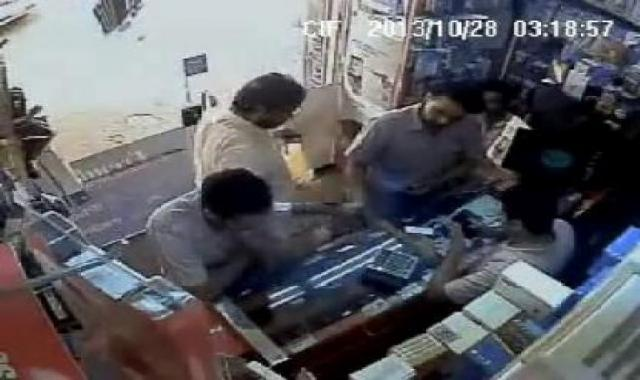no_hairnet: (189, 170, 294, 224), (236, 68, 313, 129), (410, 79, 496, 132)
